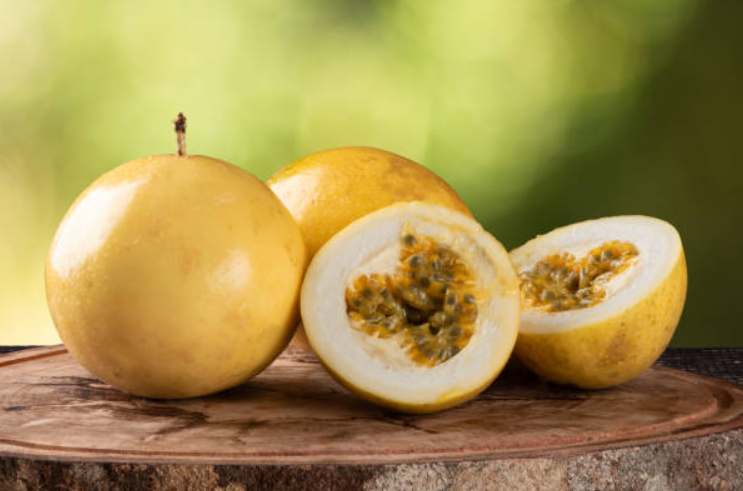maracuya: (38, 148, 312, 410)
